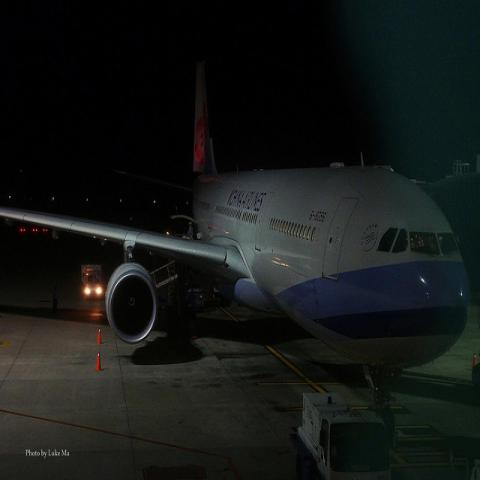truck: (296, 379, 384, 478), (82, 264, 104, 300)
